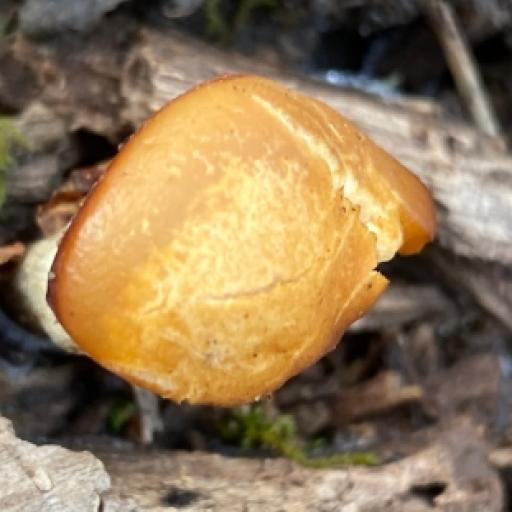mushroom: (19, 71, 441, 412)
